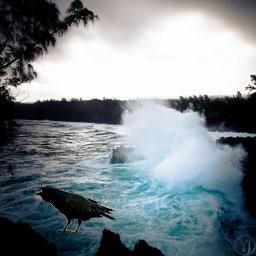Crow: (34, 186, 117, 234)
